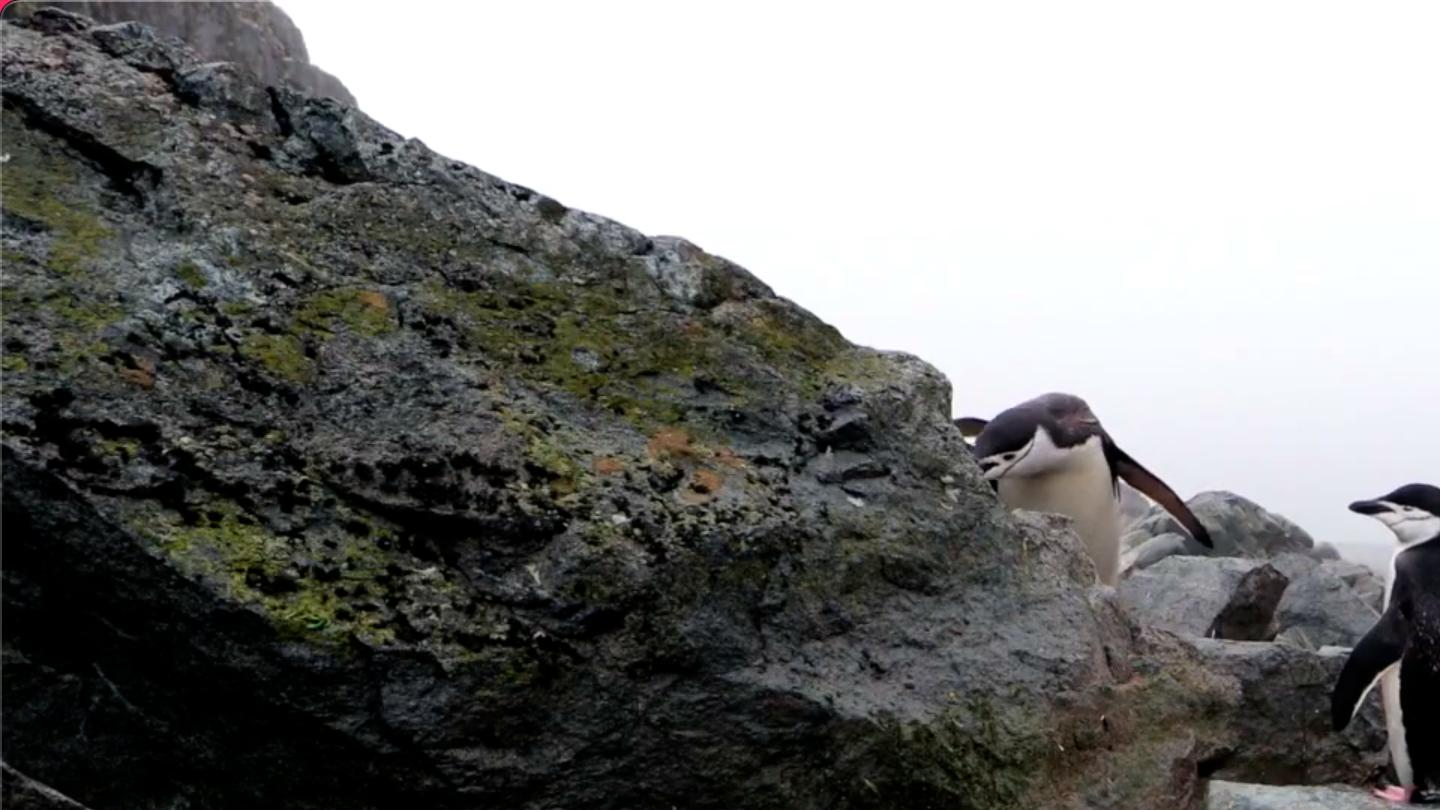Chinstrap Penguin: (963, 363, 1223, 650), (1322, 475, 1440, 810)
